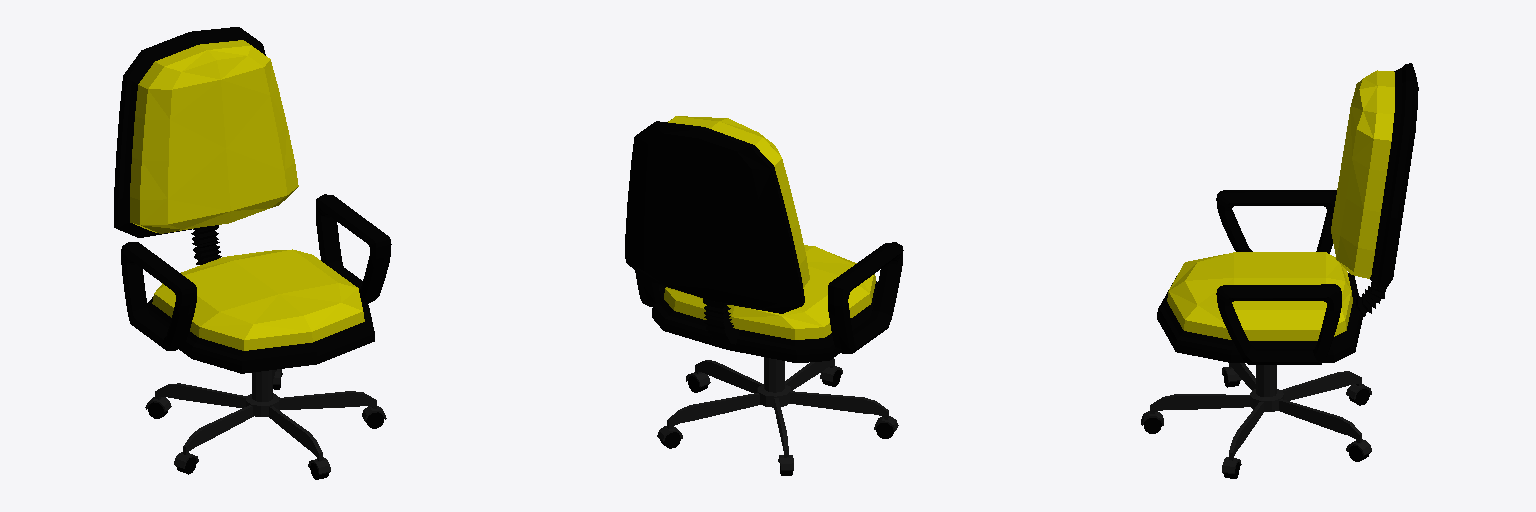
The model's file is krzeslo.obj.
3 views of the same model, side by side, from view 1: azimuth 30°, elevation 25°; view 2: azimuth 150°, elevation 25°; view 3: azimuth 270°, elevation 25° (orthographic).
Parts seen in each view (by area): view 1: OfficeChair.001_Cylinder.001, OfficeChair.002_Cylinder.003, OfficeChair_Cylinder.002; view 2: OfficeChair.002_Cylinder.003, OfficeChair.001_Cylinder.001, OfficeChair_Cylinder.002; view 3: OfficeChair.001_Cylinder.001, OfficeChair.002_Cylinder.003, OfficeChair_Cylinder.002.
Boxes of the visible parts, x1,y1,x2,y2 form: OfficeChair.001_Cylinder.001: [130, 40, 364, 350]; OfficeChair.002_Cylinder.003: [114, 27, 391, 479]; OfficeChair_Cylinder.002: [145, 369, 386, 474]; OfficeChair.002_Cylinder.003: [625, 121, 903, 475]; OfficeChair.001_Cylinder.001: [664, 116, 875, 339]; OfficeChair_Cylinder.002: [657, 357, 898, 470]; OfficeChair.001_Cylinder.001: [1167, 70, 1394, 340]; OfficeChair.002_Cylinder.003: [1144, 63, 1418, 478]; OfficeChair_Cylinder.002: [1141, 363, 1371, 473].
Bounding box in the file's own units: 0.7217 × 1.13 × 0.8072.